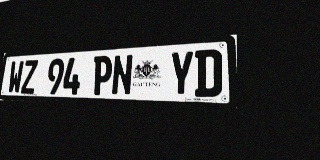4: (62, 57, 82, 95)
9: (46, 58, 65, 94)
D: (194, 49, 222, 97)
N: (111, 54, 133, 96)
P: (91, 55, 113, 95)
W: (7, 60, 24, 94)
Y: (168, 50, 194, 97)
Z: (21, 60, 38, 94)
